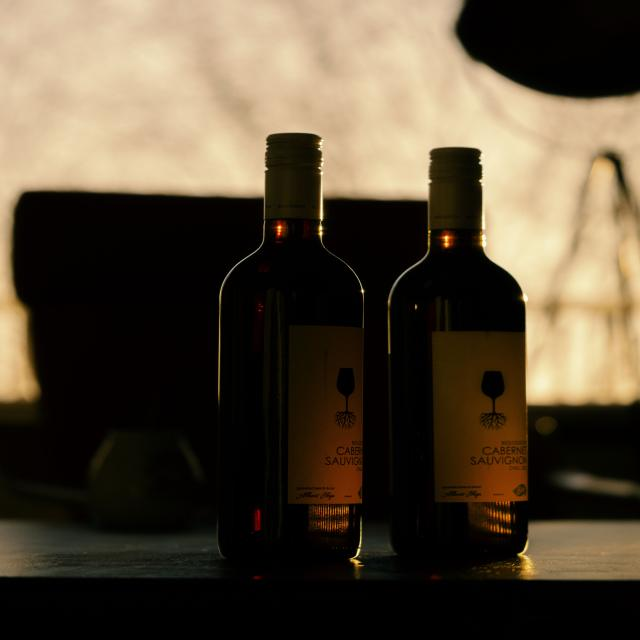Bottle: (218, 134, 363, 558), (389, 148, 528, 556)
